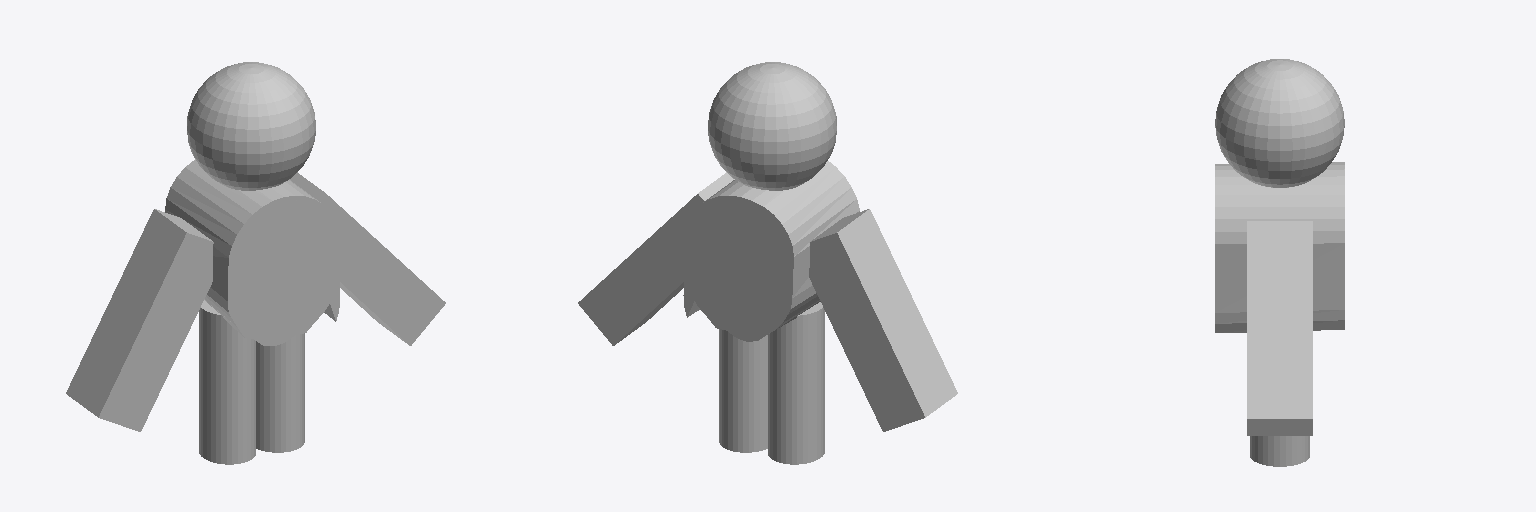
Rendered from Figurine21.obj.
3 renders of one model, left to right at view 1: azimuth 30°, elevation 25°; view 2: azimuth 150°, elevation 25°; view 3: azimuth 270°, elevation 25°, orthographic.
Visible parts, largest first — view 1: Cylinder; view 2: Cylinder; view 3: Cylinder.
Boxes of the visible parts, x1,y1,x2,y2 form: Cylinder: [66, 62, 445, 464]; Cylinder: [578, 62, 957, 464]; Cylinder: [1215, 59, 1344, 466].
Size of the model in its own units: 6.18 by 6.42 by 2.